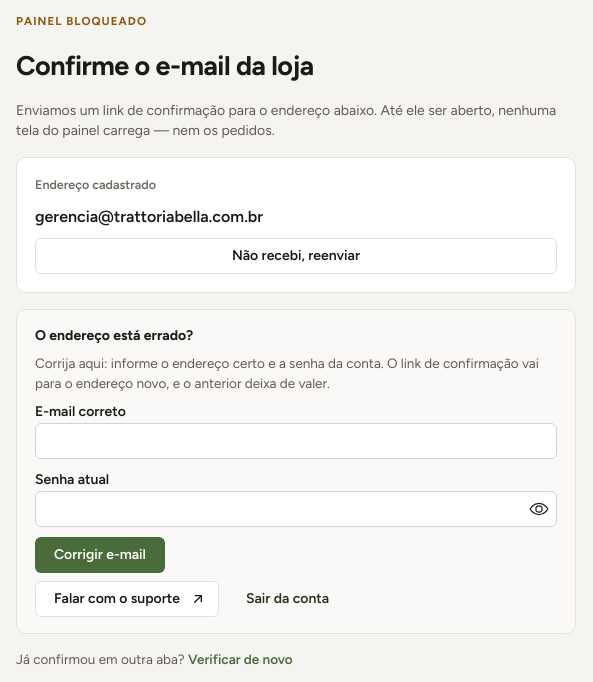
Test: EmailBlockedPage › 429 na correção trava o botão com a contagem
Step 1. Type "joao@gmail.com" into the field labelled "E-mail correto" → (296, 441), box x1=35 y1=423 x2=557 y2=459
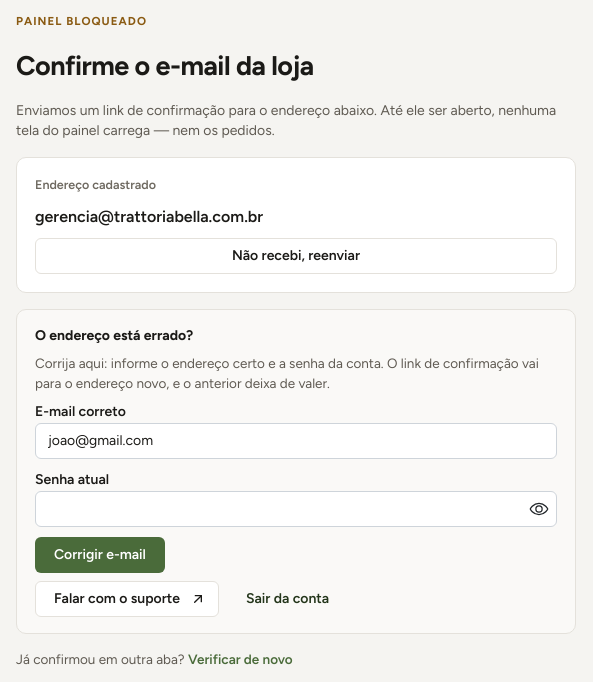
Step 2. Type "senha-do-dono-123" into the password field labelled "Senha atual" → (296, 508), box x1=36 y1=492 x2=556 y2=526
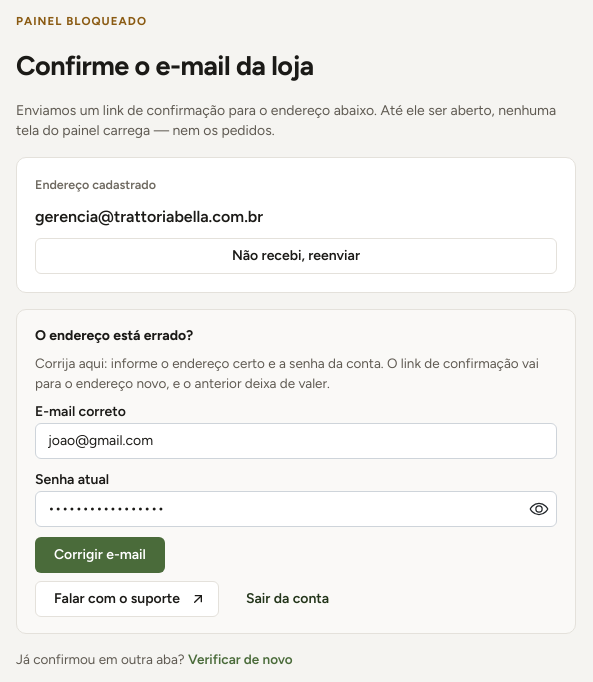
Step 3. Click the button "Corrigir e-mail" → click(100, 554), box x1=35 y1=536 x2=165 y2=572
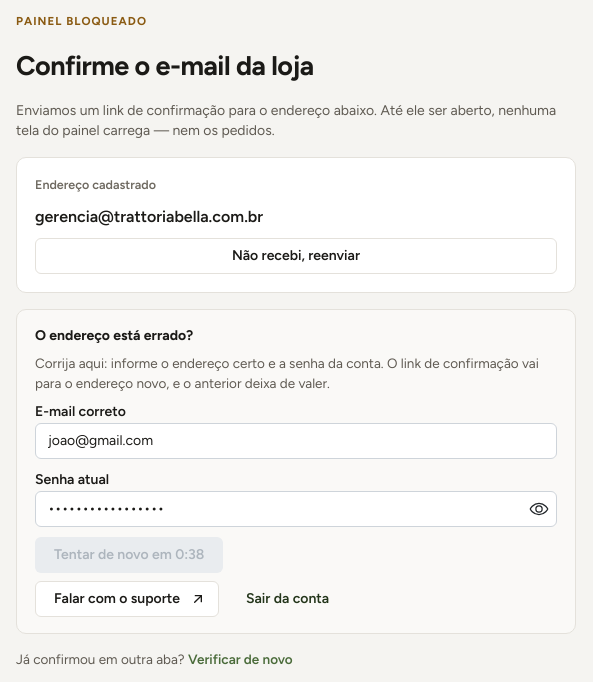
Expected: the button "Não recebi, reenviar" is enabled, x1=35 y1=238 x2=557 y2=274
Expected: the button "Tentar de novo em 0:38" is disabled, x1=35 y1=536 x2=223 y2=572
